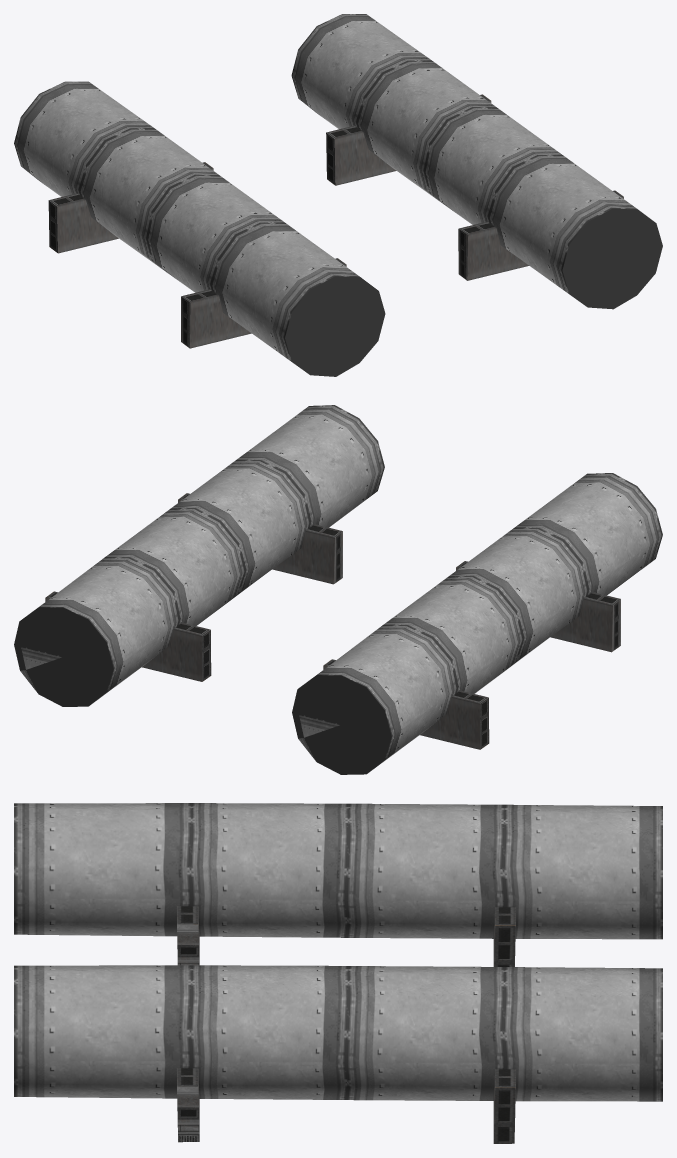
Rendered from Machinery-Pipes.fbx.
3 renders of one model, top to bottom at view 1: azimuth 30°, elevation 25°; view 2: azimuth 150°, elevation 25°; view 3: azimuth 270°, elevation 25°, orthographic. The views are drawn at different scales.
Visible parts, largest first — view 1: north:polySurface12311; view 2: north:polySurface12311; view 3: north:polySurface12311.
Part boxes in pixels (x1=…): north:polySurface12311: x1=14, y1=14, x2=662, y2=376; north:polySurface12311: x1=14, y1=405, x2=662, y2=774; north:polySurface12311: x1=14, y1=803, x2=662, y2=1143.
Bounding box in the file's own units: 0.9234 × 0.2131 × 0.9964.
Materials: 2 (2 with a texture image).
